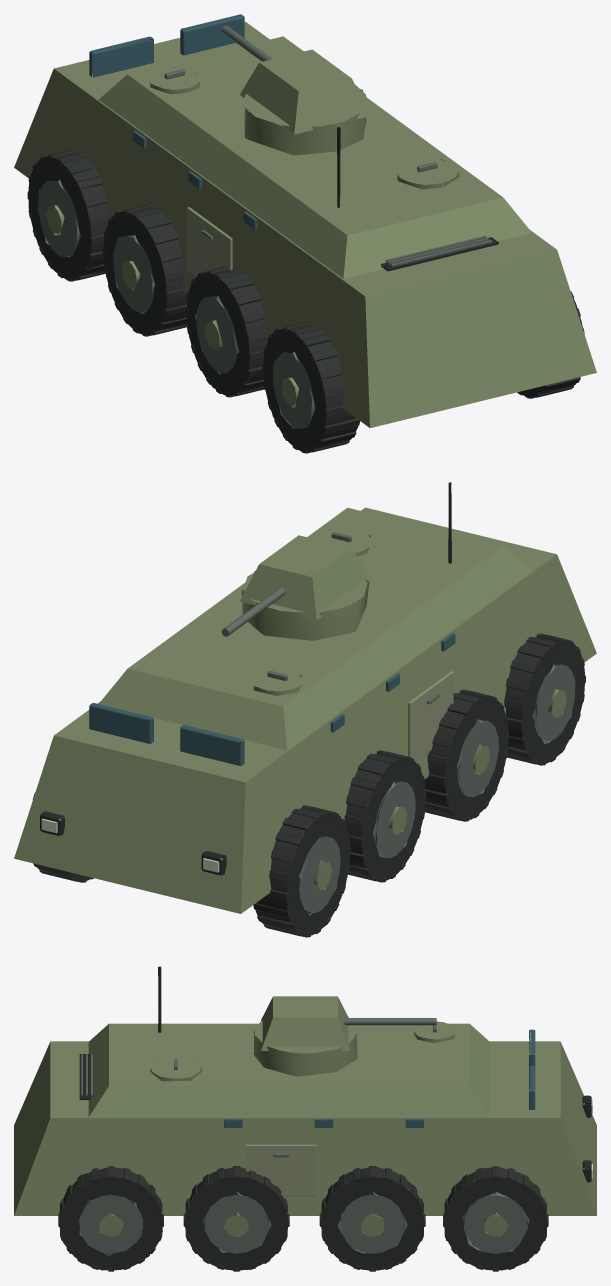
Rendered from apc.glb.
3 views of the same model, one above another, from view 1: azimuth 30°, elevation 25°; view 2: azimuth 150°, elevation 25°; view 3: azimuth 270°, elevation 25° (orthographic). The views are drawn at different scales.
Parts seen in each view (by area): view 1: static.olive painted metal, static.rubber and track pads, static.dark exterior metal, static.smoked glazing, static.edge and panel paint, static.recess shadow; view 2: static.olive painted metal, static.rubber and track pads, static.dark exterior metal, static.smoked glazing, static.edge and panel paint, static.recess shadow; view 3: static.olive painted metal, static.rubber and track pads, static.dark exterior metal, static.edge and panel paint, static.smoked glazing, static.recess shadow.
Boxes of the visible parts, box(x1,y1,x2,y2) form: static.olive painted metal: box(14, 21, 596, 427); static.rubber and track pads: box(27, 149, 584, 453); static.dark exterior metal: box(38, 25, 492, 429); static.smoked glazing: box(89, 14, 257, 229); static.edge and panel paint: box(187, 207, 232, 293); static.recess shadow: box(337, 127, 498, 271); static.olive painted metal: box(14, 507, 596, 913); static.rubber and track pads: box(32, 633, 585, 937); static.dark exterior metal: box(221, 532, 575, 915); static.smoked glazing: box(89, 633, 455, 765); static.edge and panel paint: box(408, 671, 453, 761); static.recess shadow: box(40, 482, 451, 875); static.olive painted metal: box(14, 996, 596, 1237); static.rubber and track pads: box(58, 1166, 548, 1271); static.dark exterior metal: box(79, 1018, 529, 1255); static.edge and panel paint: box(246, 1144, 316, 1196); static.smoked glazing: box(224, 1029, 535, 1127); static.recess shadow: box(79, 966, 591, 1182).
Size of the model in its own units: 3.29 by 3.27 by 7.5.
